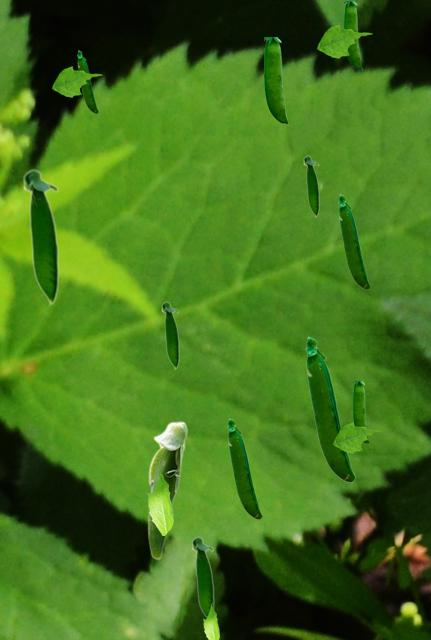pea: (305, 336, 354, 481), (147, 421, 187, 559), (22, 168, 58, 306), (227, 418, 261, 518), (338, 194, 369, 288), (264, 37, 287, 124), (191, 536, 213, 617), (77, 50, 97, 112), (161, 301, 178, 369), (344, 1, 361, 69), (303, 155, 318, 217), (353, 381, 368, 443)
